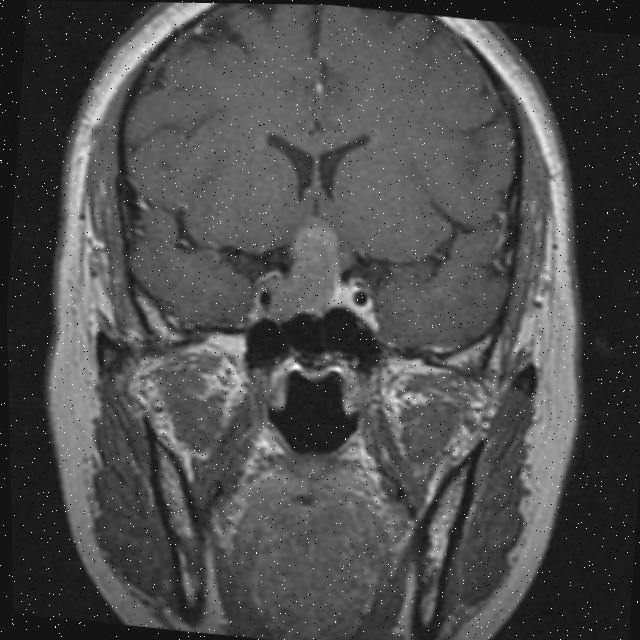Pituitary: (282, 221, 348, 319)
